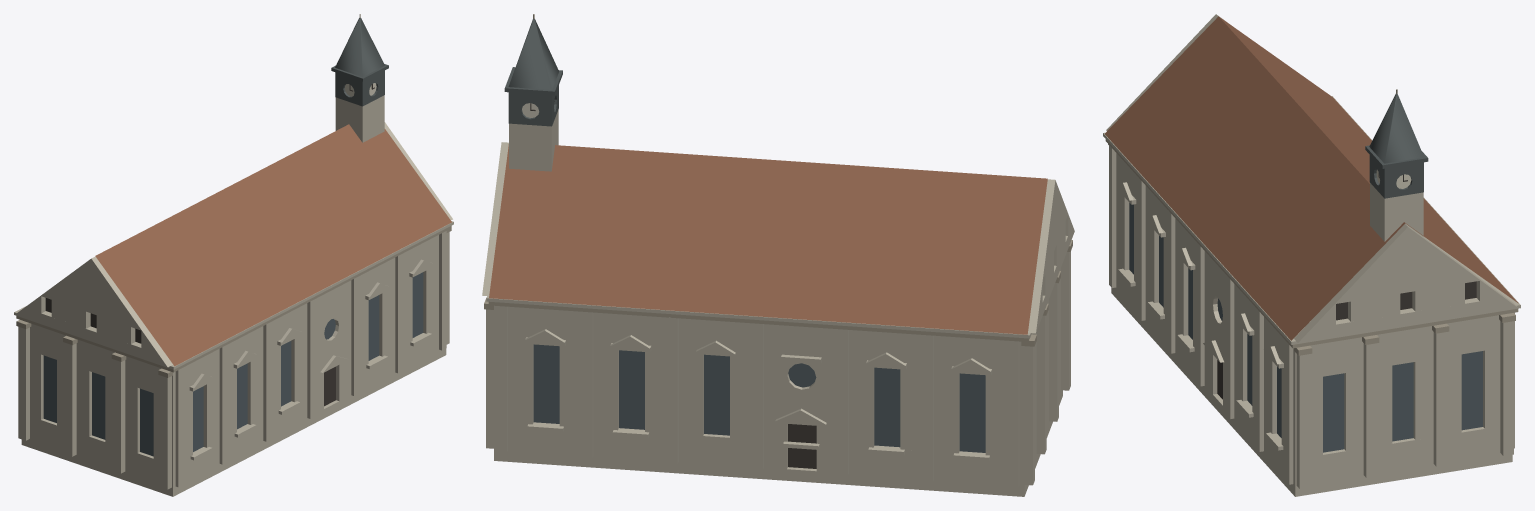
File: temple-saint-martin-montbeliard-far.glb
3 views of the same model, side by side, from view 1: azimuth 30°, elevation 25°; view 2: azimuth 150°, elevation 25°; view 3: azimuth 270°, elevation 25° (orthographic). The views are drawn at different scales.
Visible parts, largest first — view 1: temple-saint-martin-montbeliard-0-stone, temple-saint-martin-montbeliard-0-roof, temple-saint-martin-montbeliard-0-glass, temple-saint-martin-montbeliard-0-slate, temple-saint-martin-montbeliard-0-trim, temple-saint-martin-montbeliard-0-shadow; view 2: temple-saint-martin-montbeliard-0-stone, temple-saint-martin-montbeliard-0-roof, temple-saint-martin-montbeliard-0-glass, temple-saint-martin-montbeliard-0-slate, temple-saint-martin-montbeliard-0-trim, temple-saint-martin-montbeliard-0-shadow; view 3: temple-saint-martin-montbeliard-0-stone, temple-saint-martin-montbeliard-0-roof, temple-saint-martin-montbeliard-0-glass, temple-saint-martin-montbeliard-0-slate, temple-saint-martin-montbeliard-0-trim, temple-saint-martin-montbeliard-0-shadow.
Boxes of the visible parts, x1,y1,x2,y2 form: temple-saint-martin-montbeliard-0-stone: [14, 95, 453, 496]; temple-saint-martin-montbeliard-0-roof: [95, 124, 451, 366]; temple-saint-martin-montbeliard-0-glass: [43, 272, 423, 456]; temple-saint-martin-montbeliard-0-slate: [331, 18, 388, 106]; temple-saint-martin-montbeliard-0-trim: [16, 14, 451, 377]; temple-saint-martin-montbeliard-0-shadow: [45, 84, 374, 406]; temple-saint-martin-montbeliard-0-stone: [482, 110, 1074, 496]; temple-saint-martin-montbeliard-0-roof: [489, 144, 1047, 334]; temple-saint-martin-montbeliard-0-glass: [533, 344, 985, 452]; temple-saint-martin-montbeliard-0-slate: [504, 19, 562, 126]; temple-saint-martin-montbeliard-0-trim: [484, 14, 1072, 346]; temple-saint-martin-montbeliard-0-shadow: [530, 101, 816, 468]; temple-saint-martin-montbeliard-0-stone: [1103, 14, 1520, 496]; temple-saint-martin-montbeliard-0-roof: [1105, 16, 1518, 340]; temple-saint-martin-montbeliard-0-glass: [1129, 203, 1482, 452]; temple-saint-martin-montbeliard-0-slate: [1365, 94, 1428, 198]; temple-saint-martin-montbeliard-0-trim: [1105, 89, 1518, 355]; temple-saint-martin-montbeliard-0-shadow: [1217, 173, 1476, 399].
Size of the model in its own units: 43.93 by 31.5 by 31.23.
